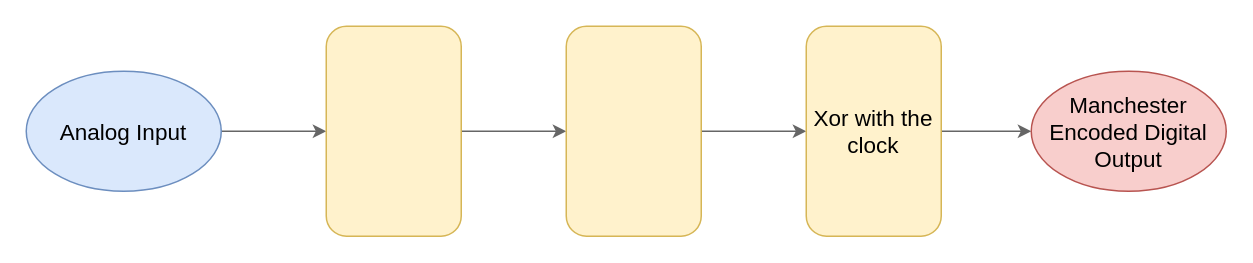
Some shapes in this 1253 by 263 pixel diagram are drawn without their labels. The centre of each missing label's shape, as x and y in pixels:
Analog To Digital Converter: pixel 393 130
Parallel To Serial Converter: pixel 633 130
